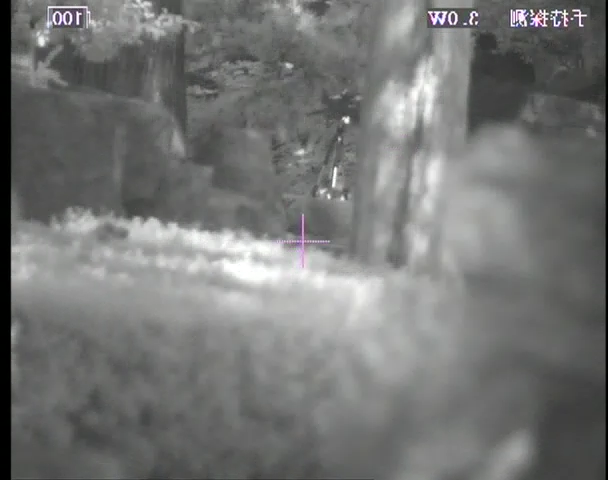my: (341, 115, 349, 125)
